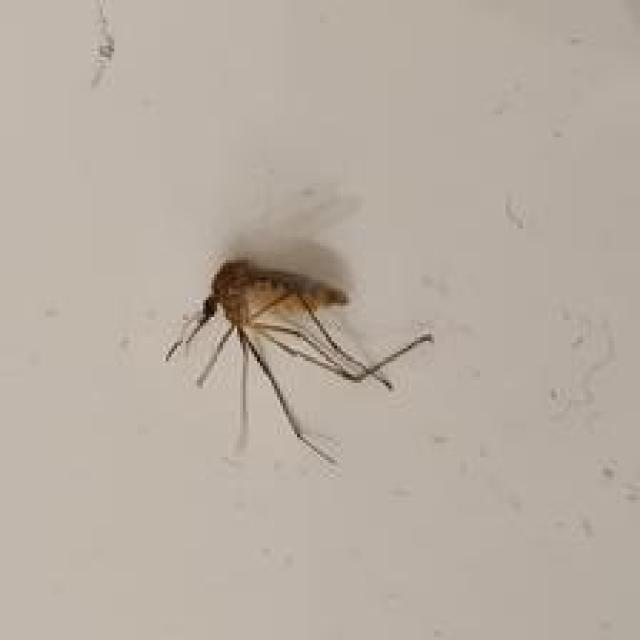Culex: (163, 256, 434, 467)
